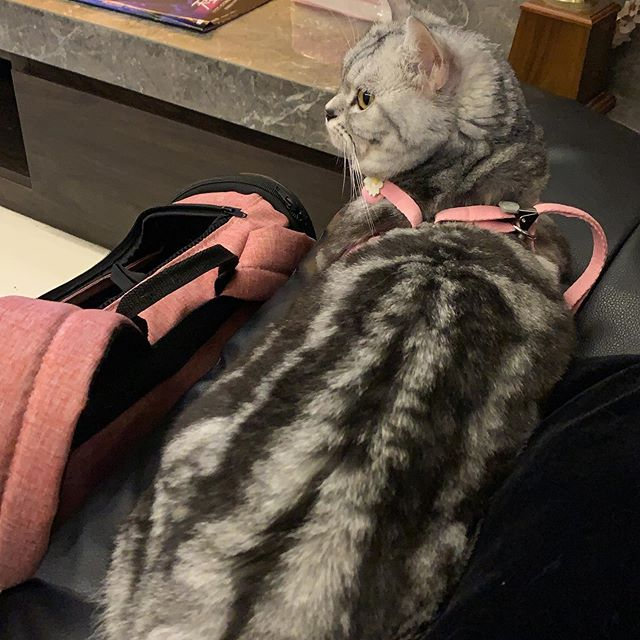cat: (327, 4, 521, 194)
